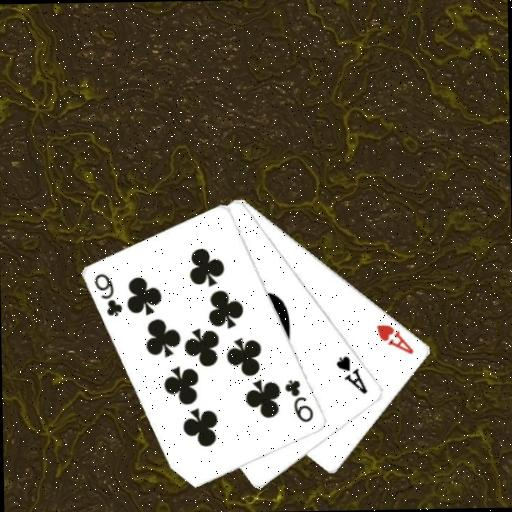9C: (282, 376, 316, 425), (92, 270, 125, 319)
AH: (373, 320, 416, 356)
AS: (333, 353, 369, 397)
